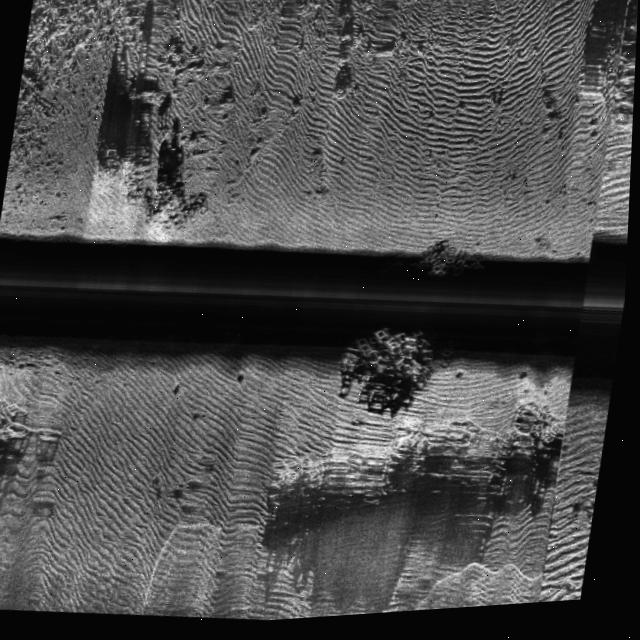artificial reef: (341, 331, 467, 408), (411, 245, 502, 306), (0, 379, 56, 453)
